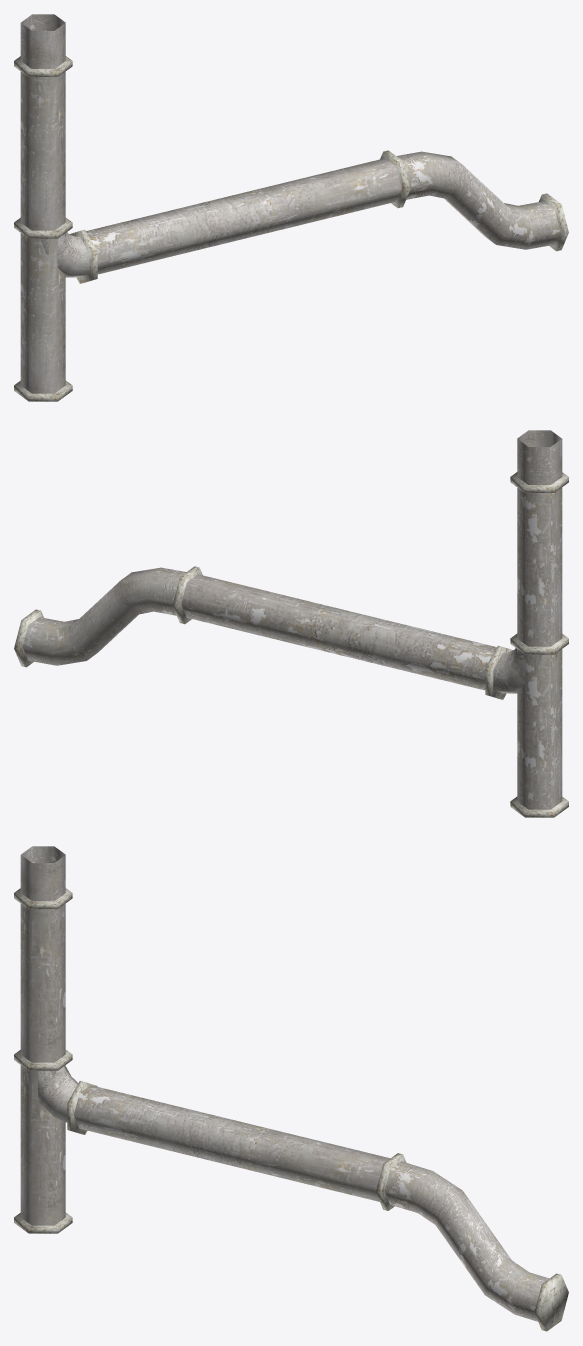
File: WallScope3.obj
3 renders of one model, top to bottom at view 1: azimuth 30°, elevation 25°; view 2: azimuth 150°, elevation 25°; view 3: azimuth 330°, elevation 25°, orthographic.
Visible parts, largest first — view 1: pasted__pasted__PipeSet1 WC_Pipes7:polySurface666, pasted__pasted__PipeSet1 WC_Pipes7:polySurface641, pasted__pasted__PipeSet1 WC_Pipes7:polySurface650, pasted__pasted__PipeSet1 WC_Pipes7:polySurface664, pasted__pasted__PipeSet1 WC_Pipes7:polySurface652, WC_Pipes7:polySurface644 pasted__pasted__PipeSet1; view 2: pasted__pasted__PipeSet1 WC_Pipes7:polySurface666, pasted__pasted__PipeSet1 WC_Pipes7:polySurface641, pasted__pasted__PipeSet1 WC_Pipes7:polySurface650, pasted__pasted__PipeSet1 WC_Pipes7:polySurface664, pasted__pasted__PipeSet1 WC_Pipes7:polySurface652, WC_Pipes7:polySurface644 pasted__pasted__PipeSet1; view 3: pasted__pasted__PipeSet1 WC_Pipes7:polySurface666, pasted__pasted__PipeSet1 WC_Pipes7:polySurface641, pasted__pasted__PipeSet1 WC_Pipes7:polySurface650, pasted__pasted__PipeSet1 WC_Pipes7:polySurface664, pasted__pasted__PipeSet1 WC_Pipes7:polySurface652, WC_Pipes7:polySurface644 pasted__pasted__PipeSet1.
Part boxes in pixels (x1=…): pasted__pasted__PipeSet1 WC_Pipes7:polySurface666: x1=86, y1=150, x2=410, y2=274; pasted__pasted__PipeSet1 WC_Pipes7:polySurface641: x1=396, y1=151, x2=568, y2=251; pasted__pasted__PipeSet1 WC_Pipes7:polySurface650: x1=14, y1=71, x2=72, y2=238; pasted__pasted__PipeSet1 WC_Pipes7:polySurface664: x1=14, y1=233, x2=72, y2=401; pasted__pasted__PipeSet1 WC_Pipes7:polySurface652: x1=14, y1=14, x2=72, y2=76; WC_Pipes7:polySurface644 pasted__pasted__PipeSet1: x1=25, y1=229, x2=97, y2=283; pasted__pasted__PipeSet1 WC_Pipes7:polySurface666: x1=172, y1=566, x2=496, y2=690; pasted__pasted__PipeSet1 WC_Pipes7:polySurface641: x1=14, y1=567, x2=186, y2=667; pasted__pasted__PipeSet1 WC_Pipes7:polySurface650: x1=510, y1=487, x2=568, y2=654; pasted__pasted__PipeSet1 WC_Pipes7:polySurface664: x1=510, y1=649, x2=568, y2=817; pasted__pasted__PipeSet1 WC_Pipes7:polySurface652: x1=510, y1=430, x2=568, y2=492; WC_Pipes7:polySurface644 pasted__pasted__PipeSet1: x1=485, y1=645, x2=557, y2=699; pasted__pasted__PipeSet1 WC_Pipes7:polySurface666: x1=74, y1=1085, x2=406, y2=1210; pasted__pasted__PipeSet1 WC_Pipes7:polySurface641: x1=384, y1=1161, x2=568, y2=1331; pasted__pasted__PipeSet1 WC_Pipes7:polySurface650: x1=14, y1=903, x2=72, y2=1070; pasted__pasted__PipeSet1 WC_Pipes7:polySurface664: x1=14, y1=1065, x2=72, y2=1233; pasted__pasted__PipeSet1 WC_Pipes7:polySurface652: x1=14, y1=846, x2=72, y2=908; WC_Pipes7:polySurface644 pasted__pasted__PipeSet1: x1=25, y1=1066, x2=97, y2=1134.
Bounding box in the file's own units: 13.68 × 9.03 × 1.3.
Materials: 1 (1 with a texture image).
